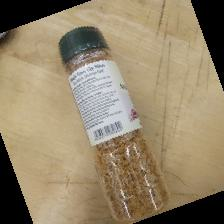TayNinh_green: (57, 25, 168, 224)
